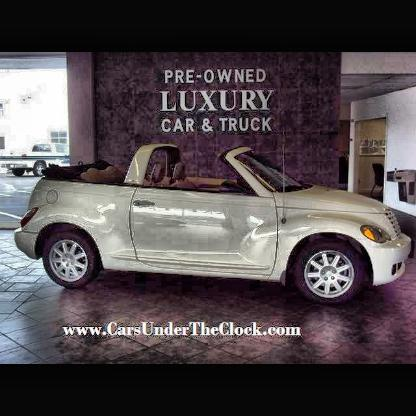Chrysler PT Cruiser Convertible 2008: (14, 145, 413, 314)
